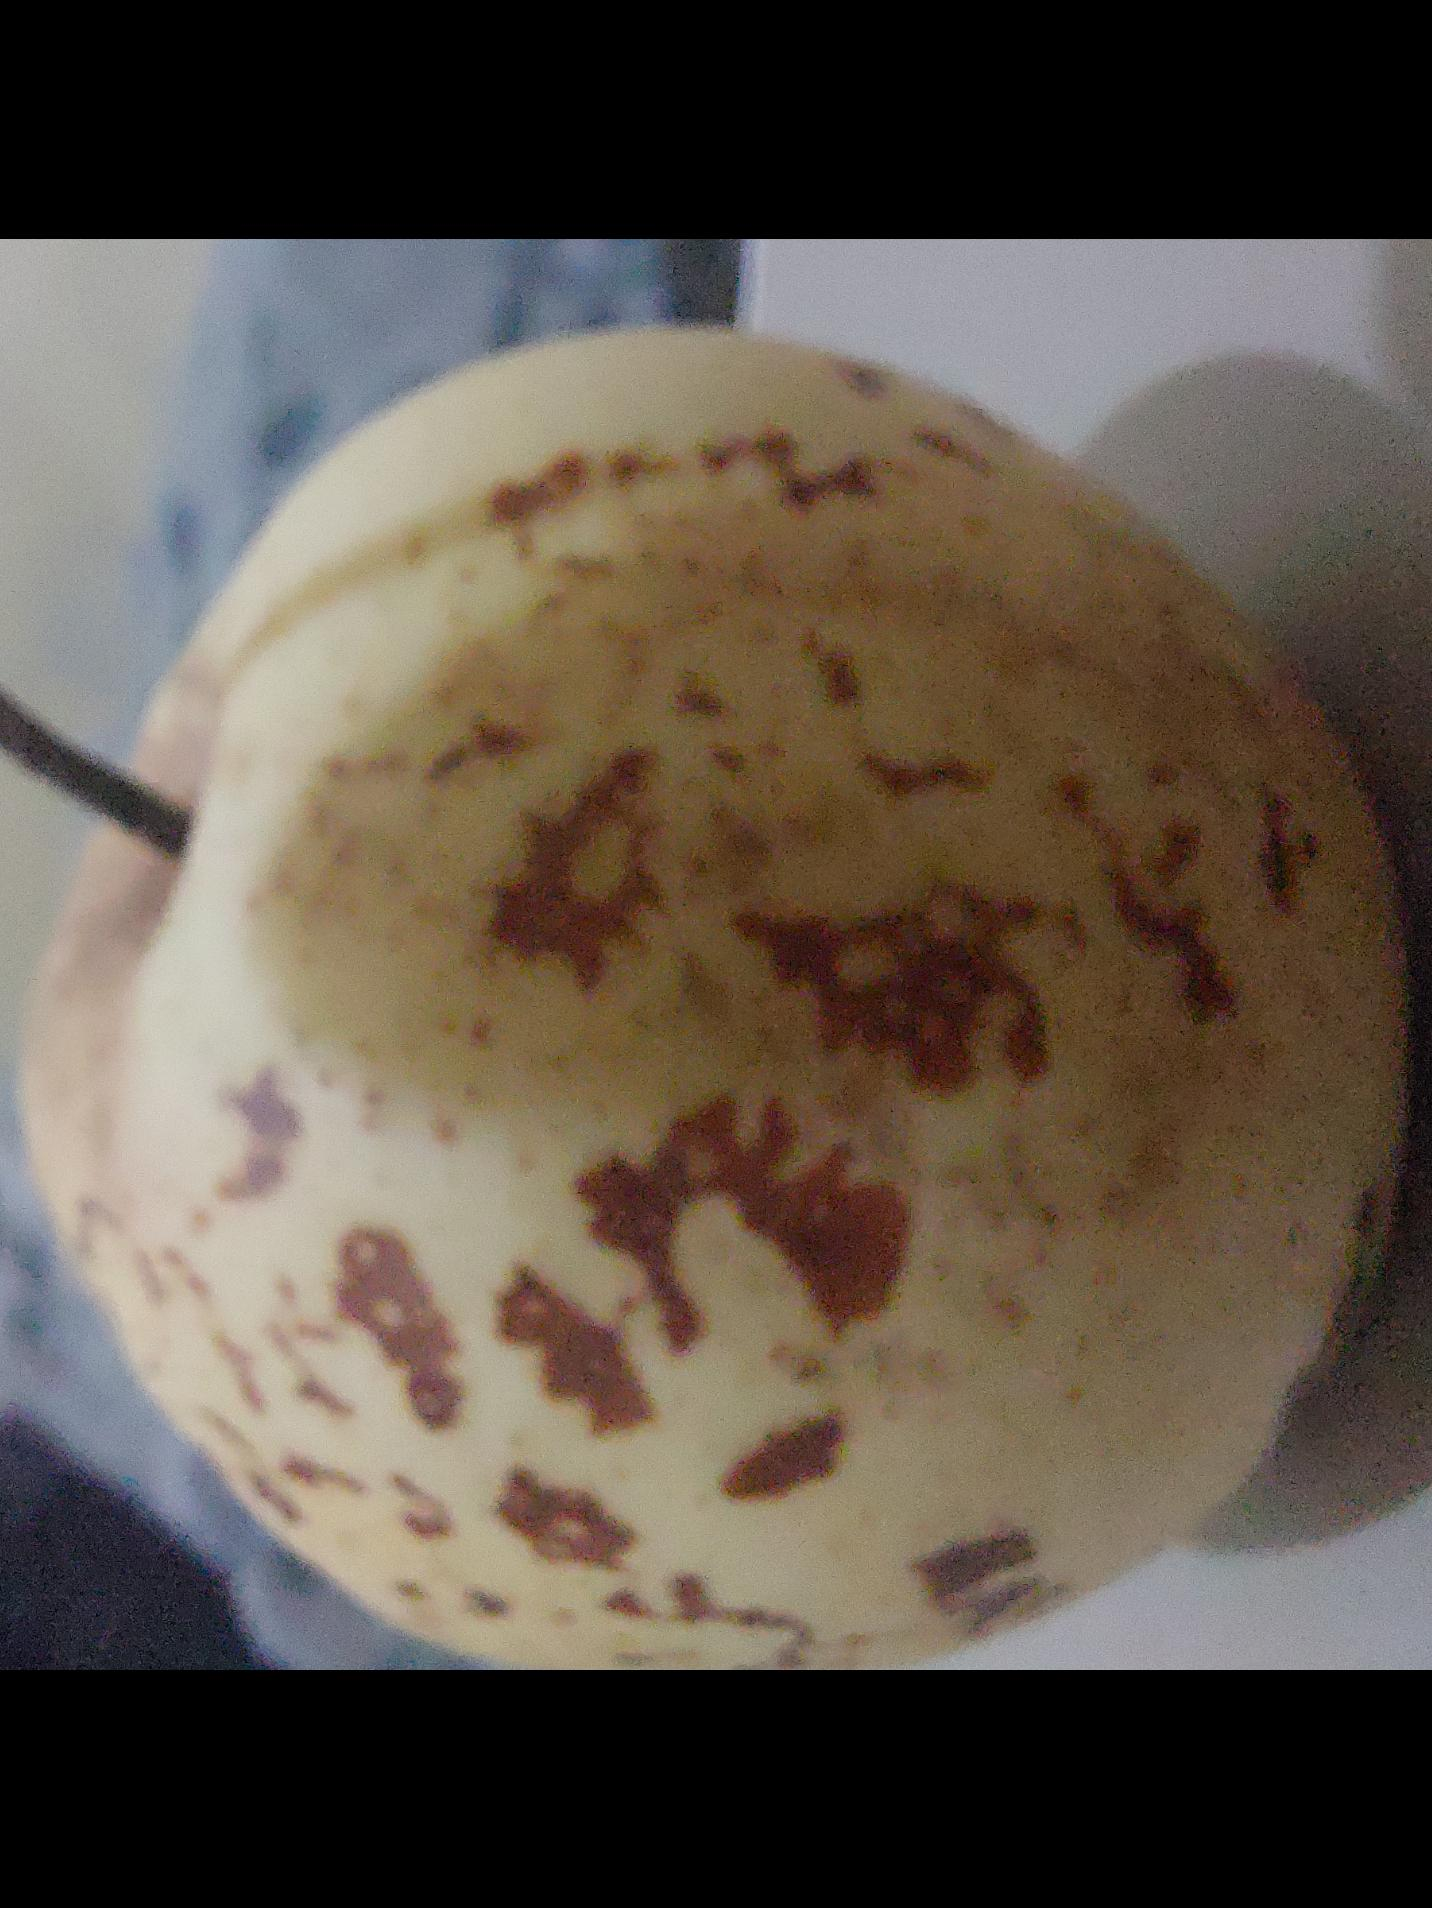Bad Pear: (29, 316, 1432, 1670)
